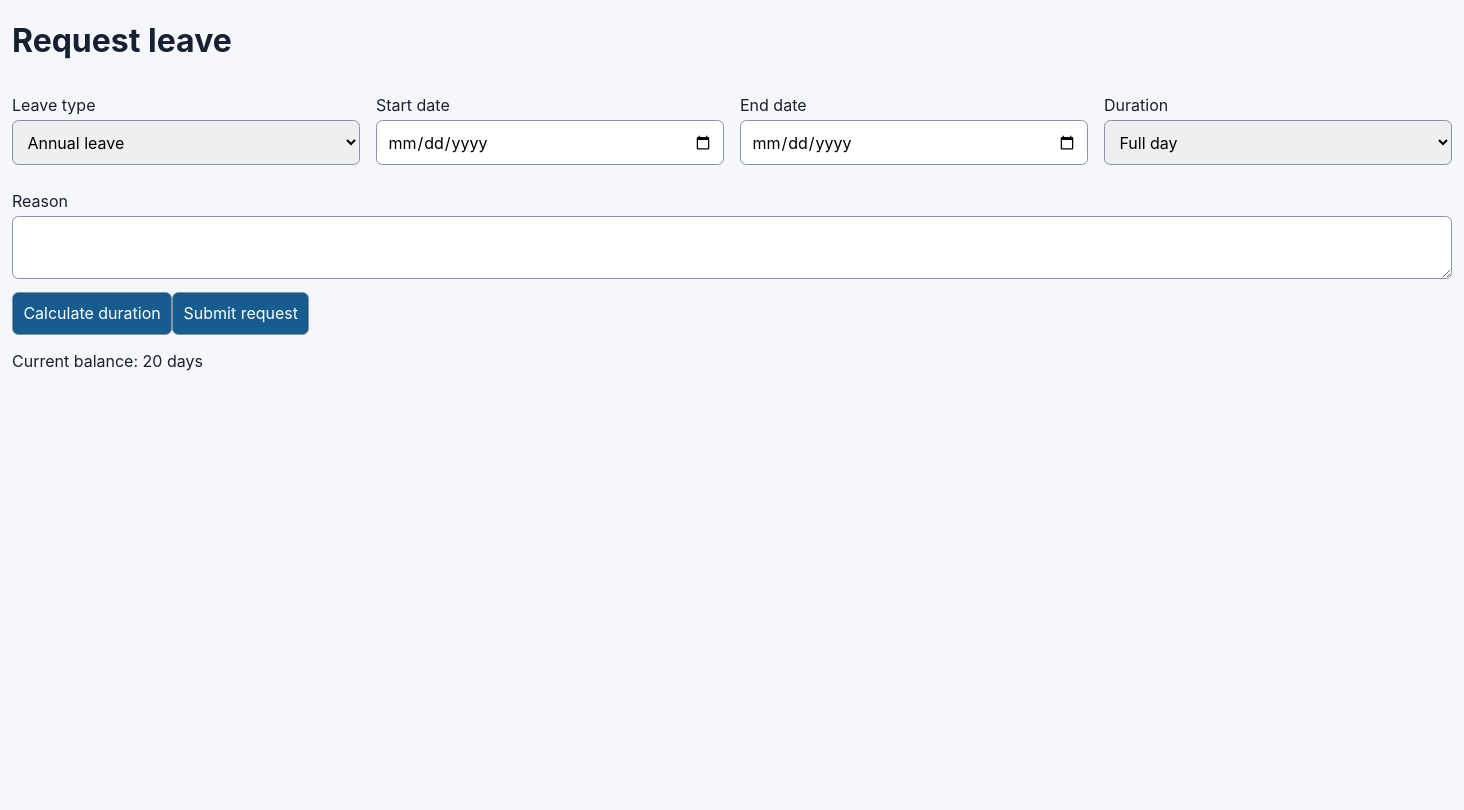
Test: previews configured exclusions and enables a valid submission
The image size is (1464, 810).
Step 1. Type "2026-09-01" into the date field labelled "Start date" → (550, 143), box [376,120,724,165]
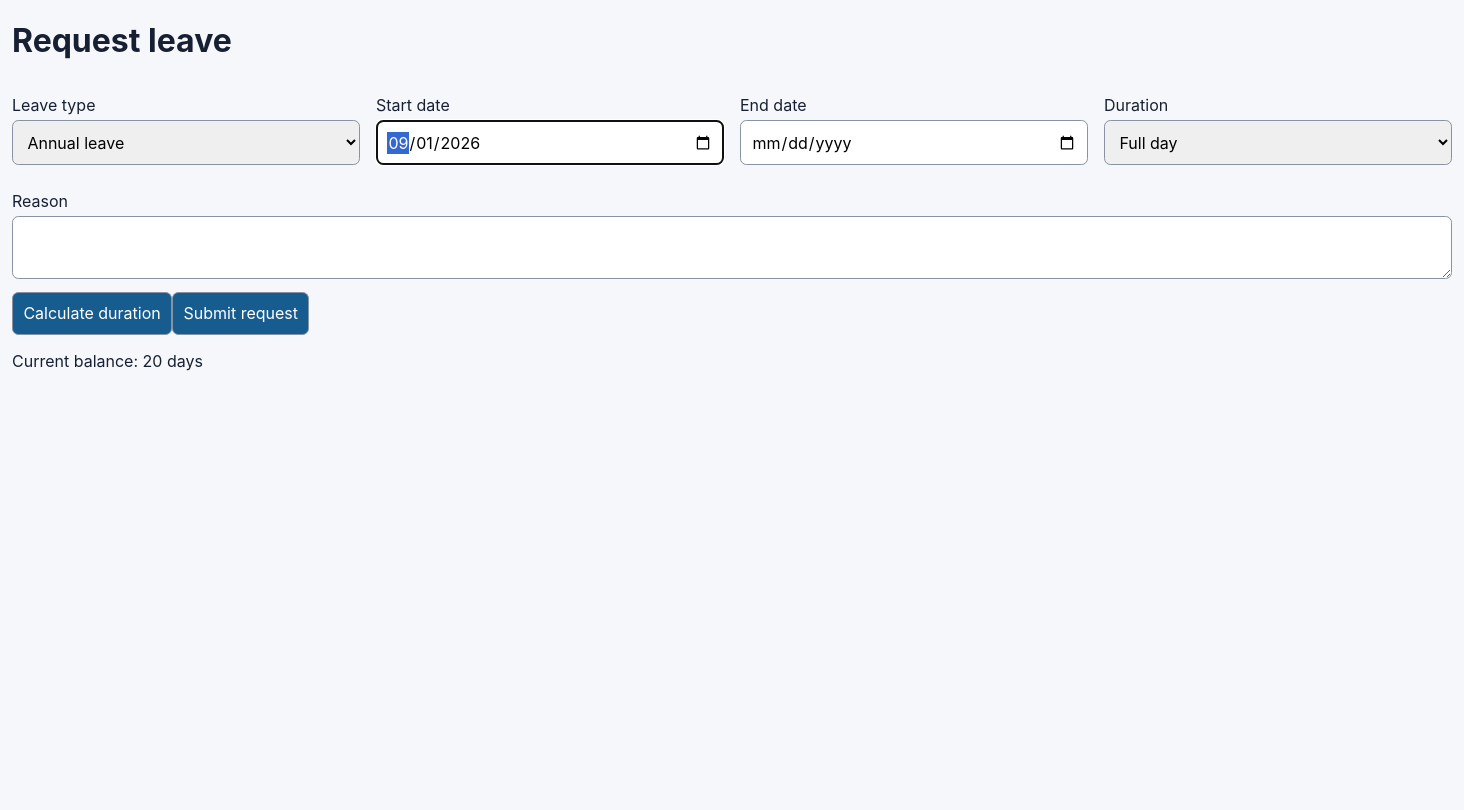
Step 2. Type "2026-09-02" into the date field labelled "End date" → (914, 143), box [740,120,1088,165]
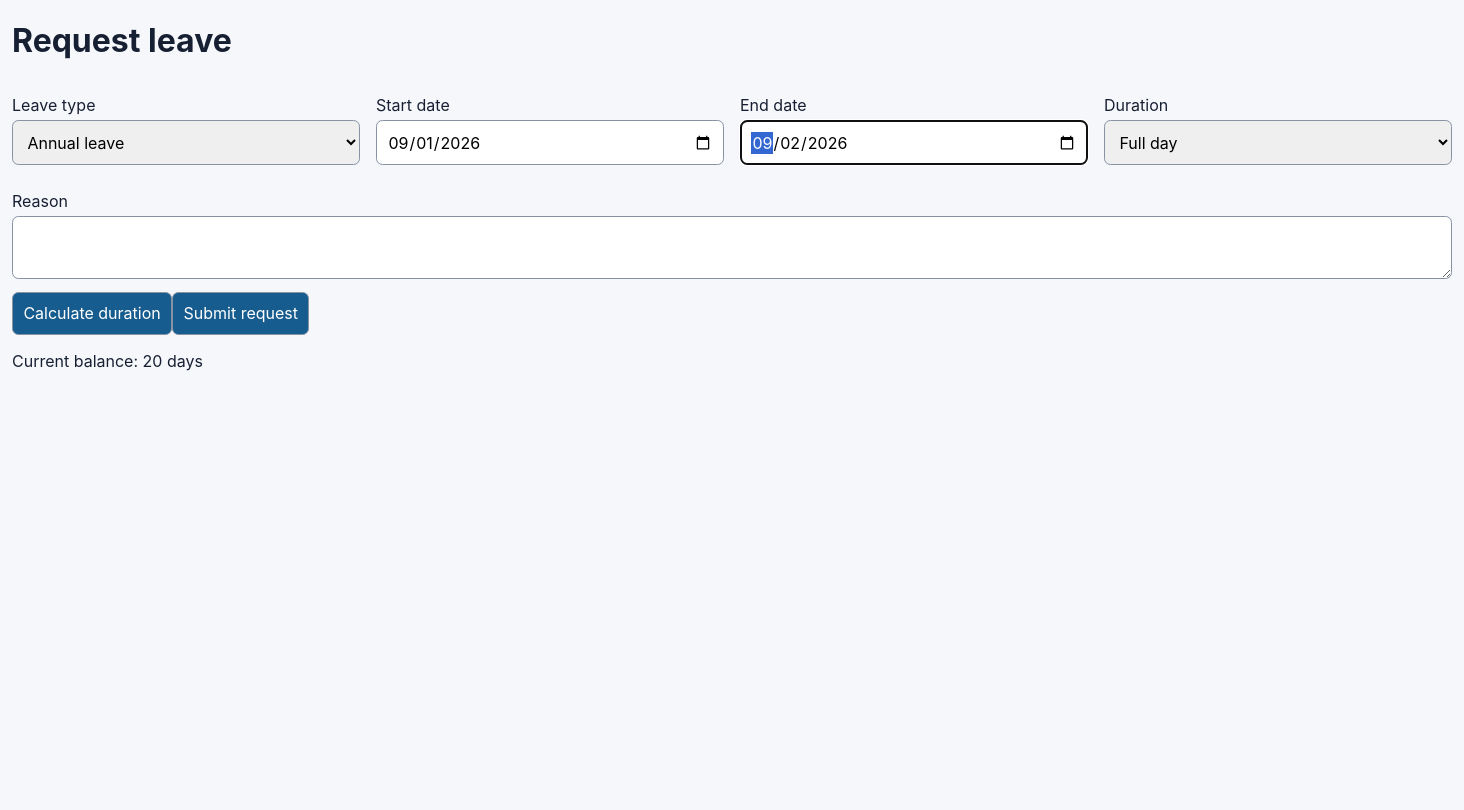
Step 3. Type "Rest" into the text box labelled "Reason" → (732, 248), box [12,216,1452,279]
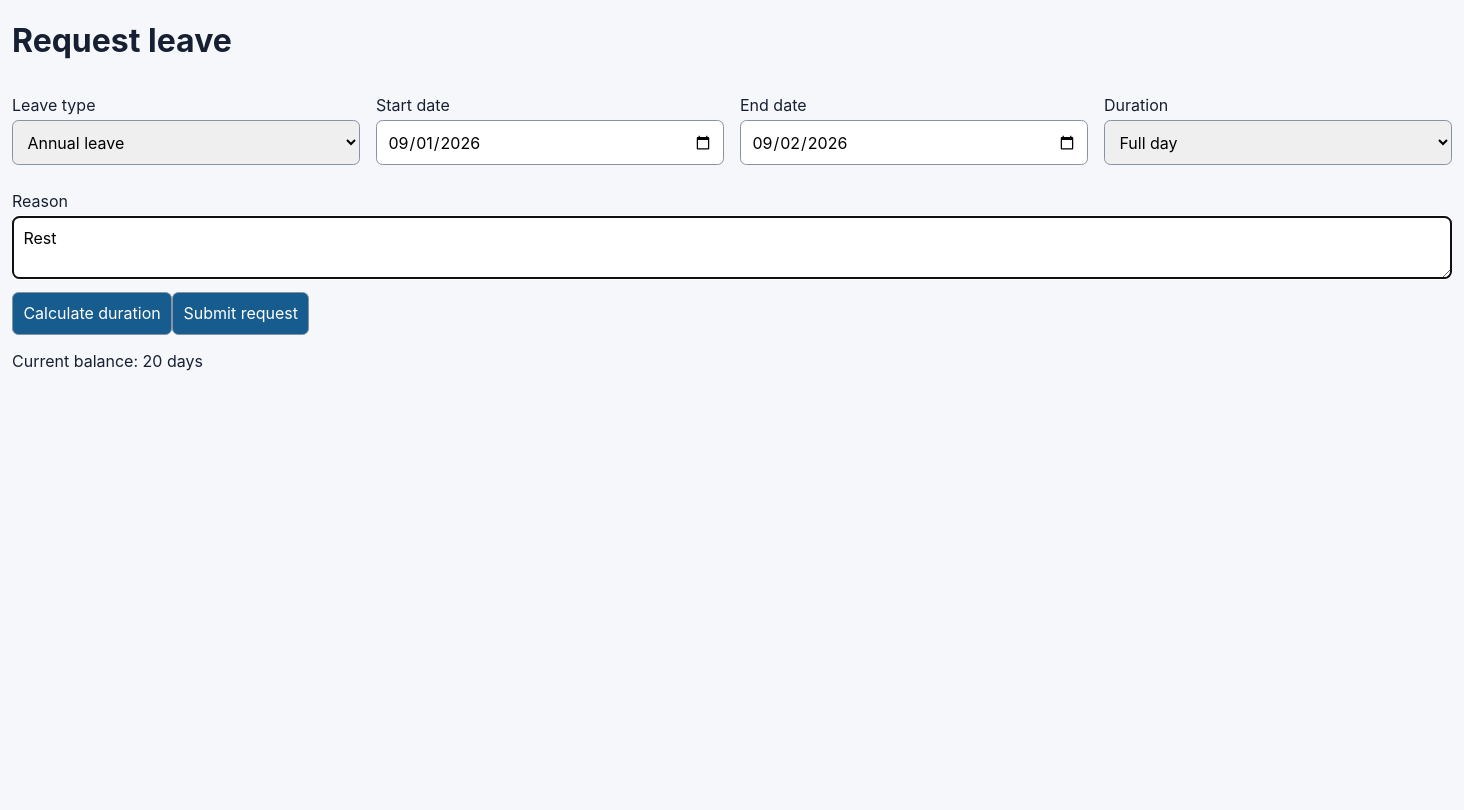
Step 4. Click the button "Calculate duration" → (92, 313), box [12,292,172,335]
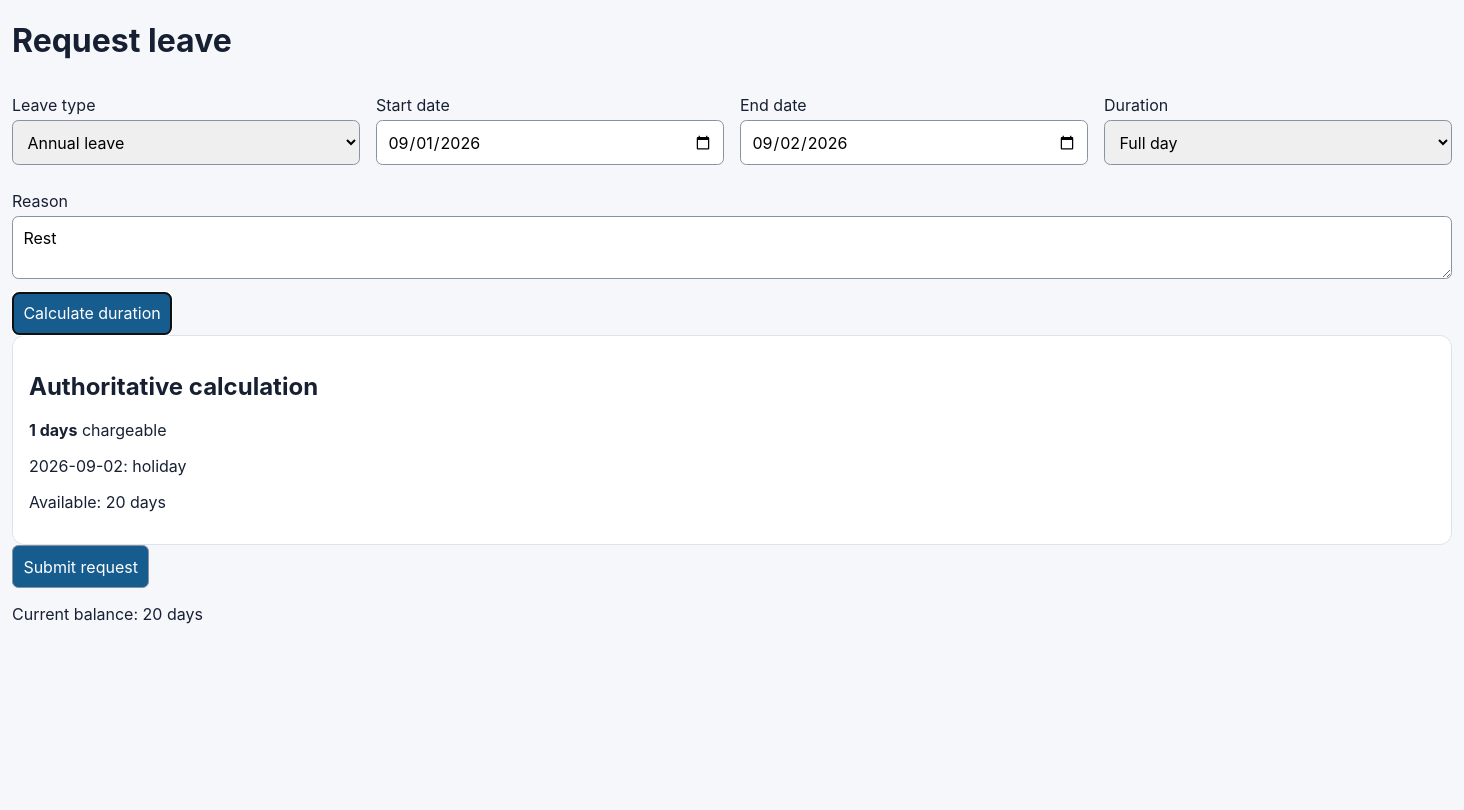
Check: the text "1 days" is shown, box [29,420,77,440]
Check: the text "2026-09-02: holiday" is shown, box [29,456,187,476]
Check: the button "Submit request" is enabled, box [12,545,149,588]
